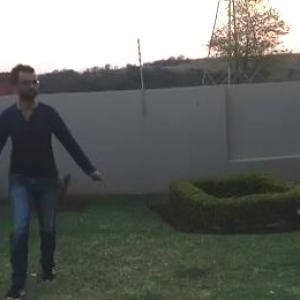land: (1, 55, 105, 300)
